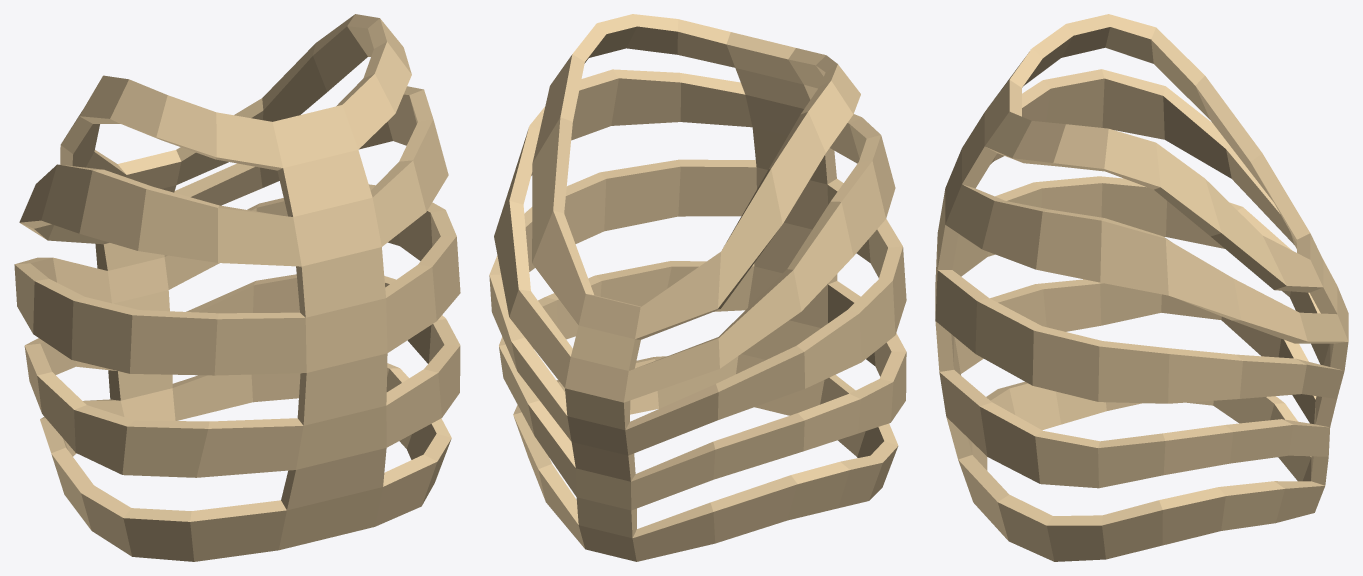
The model's file is Bone_Ribs_1__0.glb.
3 views of the same model, side by side, from view 1: azimuth 30°, elevation 25°; view 2: azimuth 150°, elevation 25°; view 3: azimuth 270°, elevation 25° (orthographic). The views are drawn at different scales.
Parts seen in each view (by area): view 1: Bone_Ribs_1__0; view 2: Bone_Ribs_1__0; view 3: Bone_Ribs_1__0.
Boxes of the visible parts, x1,y1,x2,y2 form: Bone_Ribs_1__0: (14, 14, 460, 561); Bone_Ribs_1__0: (489, 14, 906, 561); Bone_Ribs_1__0: (935, 14, 1348, 561).
Bounding box in the file's own units: 0.3148 × 0.3633 × 0.3171.
1 material, 1 textured.
